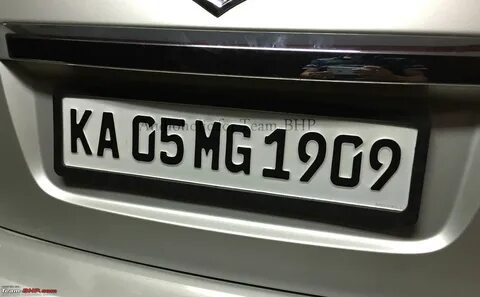number_plate: (61, 94, 406, 210)
